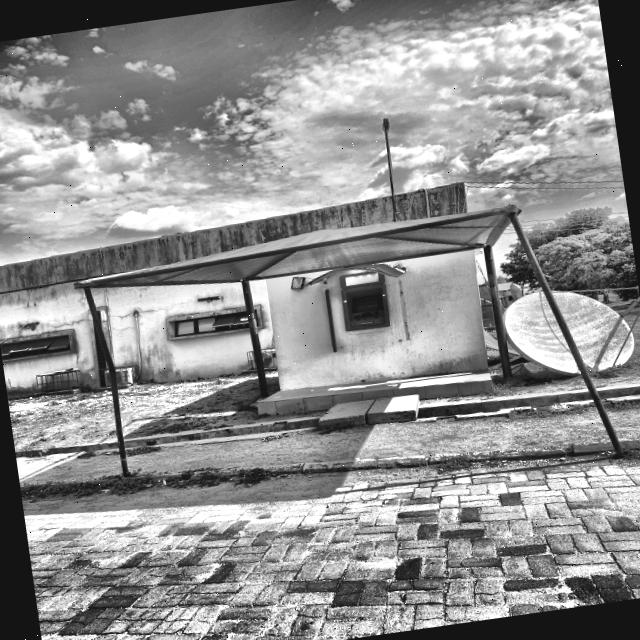ATM stand: (68, 188, 634, 542)
